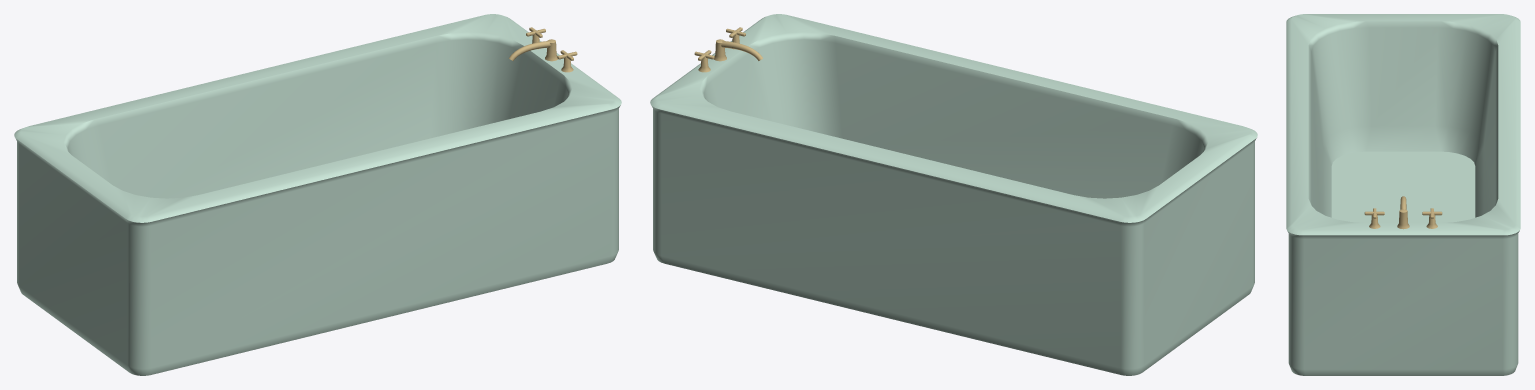
Rendered from lp_tub.glb.
3 renders of one model, left to right at view 1: azimuth 30°, elevation 25°; view 2: azimuth 150°, elevation 25°; view 3: azimuth 270°, elevation 25°, orthographic. The views are drawn at different scales.
Visible parts, largest first — view 1: lp_tub; view 2: lp_tub; view 3: lp_tub.
Part boxes in pixels (x1,y1,x2,y2): lp_tub: (14,14,621,375); lp_tub: (650,14,1257,375); lp_tub: (1286,14,1520,375).
Size of the model in its own units: 1.82 by 0.6267 by 0.816.
